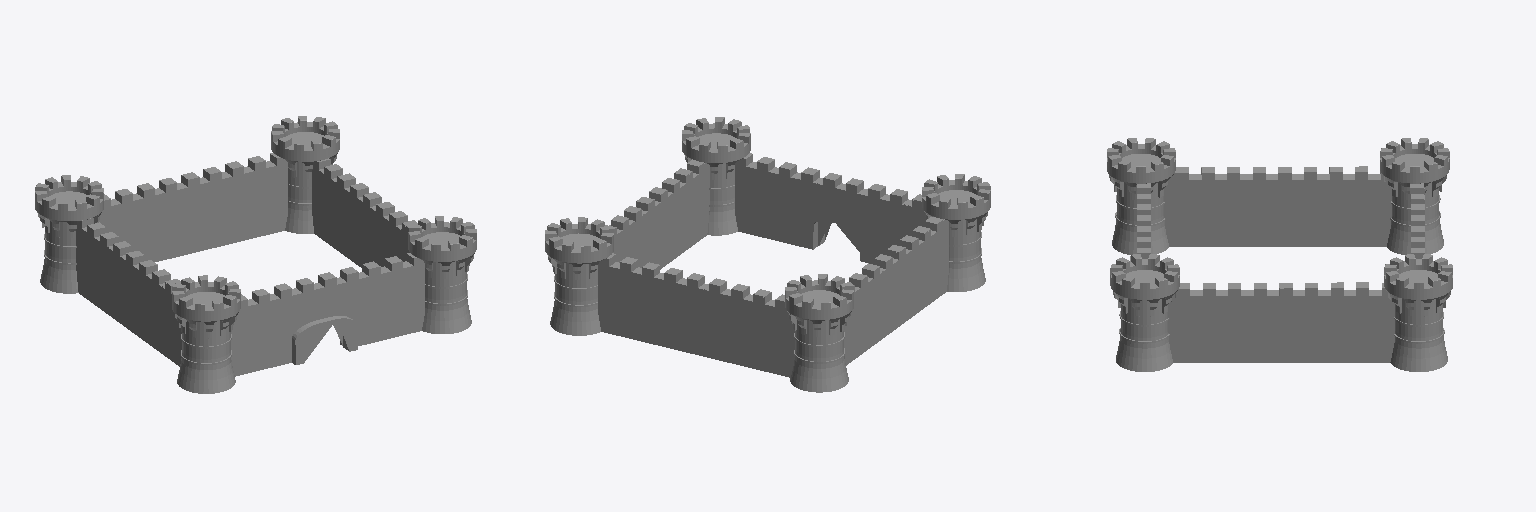
Rendered from Castle.obj.
3 views of the same model, side by side, from view 1: azimuth 30°, elevation 25°; view 2: azimuth 150°, elevation 25°; view 3: azimuth 270°, elevation 25° (orthographic).
Parts seen in each view (by area): view 1: Castle_Nullo_1_Nullo_Cubo2, Castle_ghost2_Cubo4, Castle_Nullo_21_Cubo1, Castle_Nullo_3_Cubo8, Castle_Nullo5_Tower1_Cilindro6, Castle_Nullo5_Tower1_Booleana1_Tubo_23, Castle_Nullo5_Tower_11_Booleana2_Tubo_22, Castle_Nullo_1_Tower_Booleana4_Tubo_21, Castle_Nullo_1_Tower_1_Booleana3_Tubo_2, Castle_Nullo5_Tower_11_Cilindro3, Castle_Nullo_1_Tower_Cilindro4, Castle_Nullo_1_Tower_1_Cilindro (+1 smaller); view 2: Castle_Nullo_1_Nullo_Cubo2, Castle_ghost2_Cubo4, Castle_Nullo_21_Cubo1, Castle_Nullo_3_Cubo8, Castle_Nullo_1_Tower_Cilindro4, Castle_Nullo_1_Tower_Booleana4_Tubo_21, Castle_Nullo_1_Tower_1_Booleana3_Tubo_2, Castle_Nullo5_Tower1_Booleana1_Tubo_23, Castle_Nullo_1_Tower_1_Cilindro, Castle_Nullo5_Tower_11_Booleana2_Tubo_22, Castle_Nullo5_Tower1_Cilindro6, Castle_Nullo5_Tower_11_Cilindro3; view 3: Castle_Nullo_21_Cubo1, Castle_Nullo_3_Cubo8, Castle_Nullo_1_Tower_1_Cilindro, Castle_Nullo5_Tower_11_Cilindro3, Castle_Nullo5_Tower_11_Booleana2_Tubo_22, Castle_Nullo_1_Tower_1_Booleana3_Tubo_2, Castle_Nullo_1_Tower_Booleana4_Tubo_21, Castle_Nullo5_Tower1_Booleana1_Tubo_23, Castle_Nullo5_Tower1_Cilindro6, Castle_Nullo_1_Tower_Cilindro4, Castle_Nullo_3_Cubo_104, Castle_Nullo_21_Cubo_107.
Boxes of the visible parts, x1=… form: Castle_Nullo_1_Nullo_Cubo2: x1=97, y1=161, x2=287, y2=261; Castle_ghost2_Cubo4: x1=231, y1=264, x2=424, y2=376; Castle_Nullo_21_Cubo1: x1=76, y1=221, x2=181, y2=366; Castle_Nullo_3_Cubo8: x1=312, y1=162, x2=409, y2=267; Castle_Nullo5_Tower1_Cilindro6: x1=177, y1=321, x2=235, y2=393; Castle_Nullo5_Tower1_Booleana1_Tubo_23: x1=172, y1=275, x2=240, y2=338; Castle_Nullo5_Tower_11_Booleana2_Tubo_22: x1=408, y1=216, x2=476, y2=278; Castle_Nullo_1_Tower_Booleana4_Tubo_21: x1=35, y1=175, x2=103, y2=237; Castle_Nullo_1_Tower_1_Booleana3_Tubo_2: x1=271, y1=116, x2=339, y2=178; Castle_Nullo5_Tower_11_Cilindro3: x1=422, y1=261, x2=471, y2=333; Castle_Nullo_1_Tower_Cilindro4: x1=40, y1=221, x2=78, y2=293; Castle_Nullo_1_Tower_1_Cilindro: x1=285, y1=162, x2=313, y2=233; Castle_Nullo_1_Nullo_Cubo2: x1=598, y1=259, x2=794, y2=377; Castle_ghost2_Cubo4: x1=735, y1=159, x2=926, y2=264; Castle_Nullo_21_Cubo1: x1=844, y1=219, x2=948, y2=365; Castle_Nullo_3_Cubo8: x1=613, y1=163, x2=709, y2=269; Castle_Nullo_1_Tower_Cilindro4: x1=790, y1=319, x2=848, y2=392; Castle_Nullo_1_Tower_Booleana4_Tubo_21: x1=785, y1=274, x2=853, y2=336; Castle_Nullo_1_Tower_1_Booleana3_Tubo_2: x1=545, y1=217, x2=613, y2=279; Castle_Nullo5_Tower1_Booleana1_Tubo_23: x1=922, y1=174, x2=990, y2=236; Castle_Nullo_1_Tower_1_Cilindro: x1=550, y1=263, x2=600, y2=335; Castle_Nullo5_Tower_11_Booleana2_Tubo_22: x1=682, y1=117, x2=750, y2=179; Castle_Nullo5_Tower1_Cilindro6: x1=947, y1=219, x2=985, y2=291; Castle_Nullo5_Tower_11_Cilindro3: x1=707, y1=163, x2=737, y2=235; Castle_Nullo_21_Cubo1: x1=1164, y1=171, x2=1391, y2=246; Castle_Nullo_3_Cubo8: x1=1168, y1=290, x2=1394, y2=362; Castle_Nullo_1_Tower_1_Cilindro: x1=1390, y1=299, x2=1447, y2=371; Castle_Nullo5_Tower_11_Cilindro3: x1=1116, y1=299, x2=1172, y2=371; Castle_Nullo5_Tower_11_Booleana2_Tubo_22: x1=1110, y1=254, x2=1179, y2=316; Castle_Nullo_1_Tower_1_Booleana3_Tubo_2: x1=1384, y1=254, x2=1452, y2=316; Castle_Nullo_1_Tower_Booleana4_Tubo_21: x1=1380, y1=138, x2=1449, y2=199; Castle_Nullo5_Tower1_Booleana1_Tubo_23: x1=1107, y1=138, x2=1175, y2=199; Castle_Nullo5_Tower1_Cilindro6: x1=1112, y1=182, x2=1168, y2=254; Castle_Nullo_1_Tower_Cilindro4: x1=1387, y1=182, x2=1443, y2=254; Castle_Nullo_3_Cubo_104: x1=1190, y1=290, x2=1381, y2=295; Castle_Nullo_21_Cubo_107: x1=1189, y1=174, x2=1380, y2=179.
Bounding box in the file's own units: 25.97 × 7.65 × 26.18.